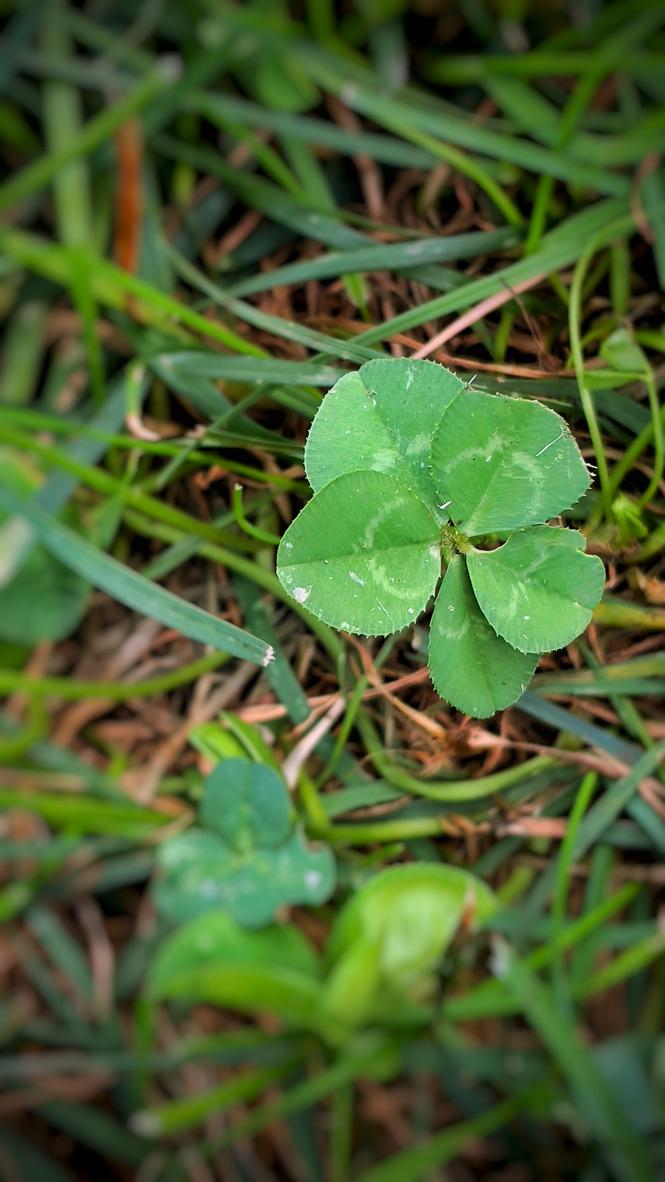5-Leaf-Clovers: (286, 355, 603, 717)
